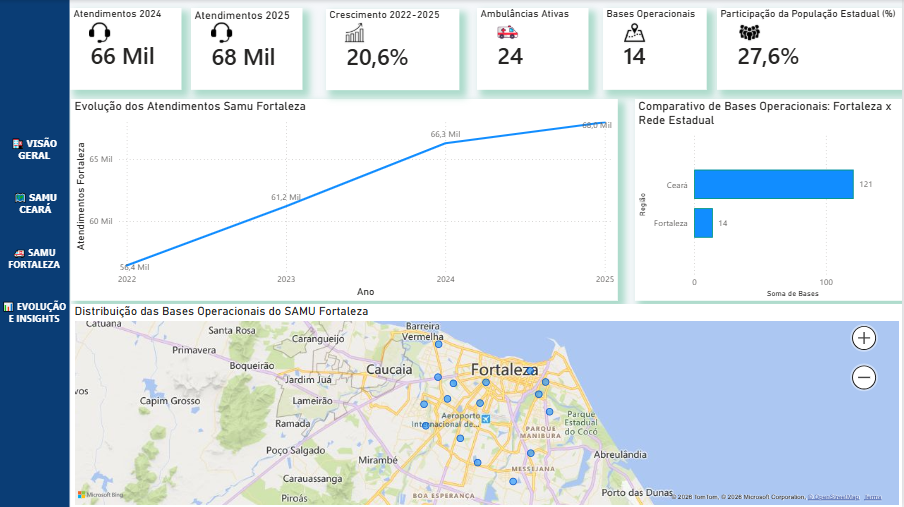

The page's visual inventory and layout, read from the dashboard file:
{"tool":"powerbi","page":{"name":"Samu Fortaleza","canvas":[1280,720],"ordinal":3},"visuals":[{"type":"cardVisual","title":"Atendimentos 2024","fields":{"Data":["Fortaleza_Atendimentos.Atendimentos Fortaleza 2024"]},"box":[100.1,10.9,158,115.8],"z":0},{"type":"shape","box":[0,0,100,720.2],"z":1000},{"type":"cardVisual","title":"Atendimentos 2025","fields":{"Data":["Fortaleza_Atendimentos.Atendimentos Fortaleza 2025"]},"box":[272.7,10.9,158,115.8],"z":2000},{"type":"cardVisual","title":"Bases Operacionais","fields":{"Data":["Min(Indicadores_Fortaleza.Valor)"]},"box":[855.4,10.9,147.2,115.8],"z":3000},{"type":"cardVisual","title":"Ambulâncias Ativas","fields":{"Data":["Indicadores_Fortaleza.Ambulancias Fortaleza"]},"box":[678,10.9,158,115.8],"z":4000},{"type":"cardVisual","title":"Participação da População Estadual (%)","fields":{"Data":["Indicadores_Fortaleza.Participacao Fortaleza Texto"]},"box":[1017,10.9,263,115.8],"z":5000},{"type":"lineChart","title":"Evolução dos Atendimentos Samu Fortaleza","fields":{"Category":["Fortaleza_Atendimentos.Ano"],"Y":["Fortaleza_Atendimentos.Atendimentos Fortaleza"]},"box":[101.3,139.9,774.5,285.9],"z":6000},{"type":"clusteredBarChart","title":"Comparativo de Bases Operacionais: Fortaleza x Rede Estadual","fields":{"Category":["Comparativo_Bases.Região"],"Y":["Sum(Comparativo_Bases.Bases)"]},"box":[901.2,139.9,378.8,285.9],"z":7000},{"type":"cardVisual","title":"Crescimento 2022-2025","fields":{"Data":["Indicadores_Fortaleza.Crescimento Fortaleza"]},"box":[463.5,12.8,188.5,114.8],"z":8000},{"type":"image","box":[127.6,31.2,29.8,29.8],"z":9000},{"type":"image","box":[489,31.2,29.8,29.8],"z":10000},{"type":"image","box":[705.8,31.2,29.8,29.8],"z":11000},{"type":"image","box":[885.8,31.2,29.8,29.8],"z":12000},{"type":"image","box":[1048.8,31.1,30,30],"z":13000},{"type":"map","title":"Distribuição das Bases Operacionais do SAMU Fortaleza","fields":{"Y":["Bases_Fortaleza.Latitude"],"X":["Bases_Fortaleza.Longitude"]},"box":[101.3,430.7,1178.7,289.5],"z":14000},{"type":"actionButton","box":[0,172.5,100.1,77.2],"z":15000},{"type":"actionButton","box":[1.2,249.5,100.3,77],"z":16000},{"type":"actionButton","box":[0,326.9,100.1,77.2],"z":17000},{"type":"actionButton","box":[0,404.2,100.1,77.2],"z":18000},{"type":"image","box":[300.5,31.2,29.8,29.8],"z":19000}]}

Visuals, with their boxes on the page's 1280x720 design canvas (x1, y1, x2, y2). These are canvas units, not pixel positions in the 904x507 screenshot, which may show the page scaled, cropped or inside an application window:
"Atendimentos 2024" cardVisual: box=[100, 11, 258, 127]
shape: box=[0, 0, 100, 720]
"Atendimentos 2025" cardVisual: box=[273, 11, 431, 127]
"Bases Operacionais" cardVisual: box=[855, 11, 1003, 127]
"Ambulâncias Ativas" cardVisual: box=[678, 11, 836, 127]
"Participação da População Estadual (%)" cardVisual: box=[1017, 11, 1280, 127]
"Evolução dos Atendimentos Samu Fortaleza" lineChart: box=[101, 140, 876, 426]
"Comparativo de Bases Operacionais: Fortaleza x Rede Estadual" clusteredBarChart: box=[901, 140, 1280, 426]
"Crescimento 2022-2025" cardVisual: box=[464, 13, 652, 128]
image: box=[128, 31, 157, 61]
image: box=[489, 31, 519, 61]
image: box=[706, 31, 736, 61]
image: box=[886, 31, 916, 61]
image: box=[1049, 31, 1079, 61]
"Distribuição das Bases Operacionais do SAMU Fortaleza" map: box=[101, 431, 1280, 720]
actionButton: box=[0, 172, 100, 250]
actionButton: box=[1, 250, 102, 326]
actionButton: box=[0, 327, 100, 404]
actionButton: box=[0, 404, 100, 481]
image: box=[300, 31, 330, 61]
